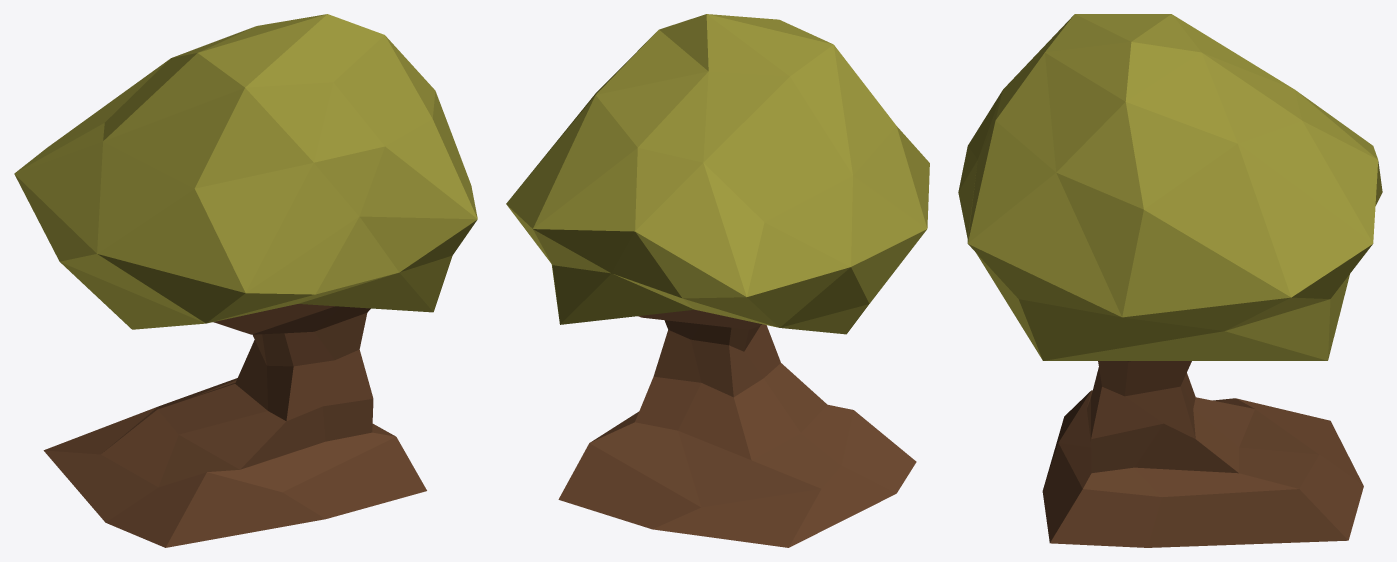
File: Tree_25_Yellow.fbx
3 renders of one model, left to right at view 1: azimuth 30°, elevation 25°; view 2: azimuth 150°, elevation 25°; view 3: azimuth 270°, elevation 25°, orthographic. The views are drawn at different scales.
Parts seen in each view (by area): view 1: Tree_25_Yellow_Part_1, Tree_25_Yellow_Part_3, Tree_25_Yellow_Part_2; view 2: Tree_25_Yellow_Part_1, Tree_25_Yellow_Part_3, Tree_25_Yellow_Part_2; view 3: Tree_25_Yellow_Part_1, Tree_25_Yellow_Part_3, Tree_25_Yellow_Part_2.
Boxes of the visible parts, <box> form: Tree_25_Yellow_Part_1: <box>14,14,477,329</box>; Tree_25_Yellow_Part_3: <box>43,378,426,547</box>; Tree_25_Yellow_Part_2: <box>158,304,373,469</box>; Tree_25_Yellow_Part_1: <box>506,14,929,334</box>; Tree_25_Yellow_Part_3: <box>558,405,916,547</box>; Tree_25_Yellow_Part_2: <box>635,309,827,460</box>; Tree_25_Yellow_Part_1: <box>958,14,1382,360</box>; Tree_25_Yellow_Part_3: <box>1042,390,1363,547</box>; Tree_25_Yellow_Part_2: <box>1087,361,1254,473</box>.
Bounding box in the file's own units: 666 × 786 × 641.
